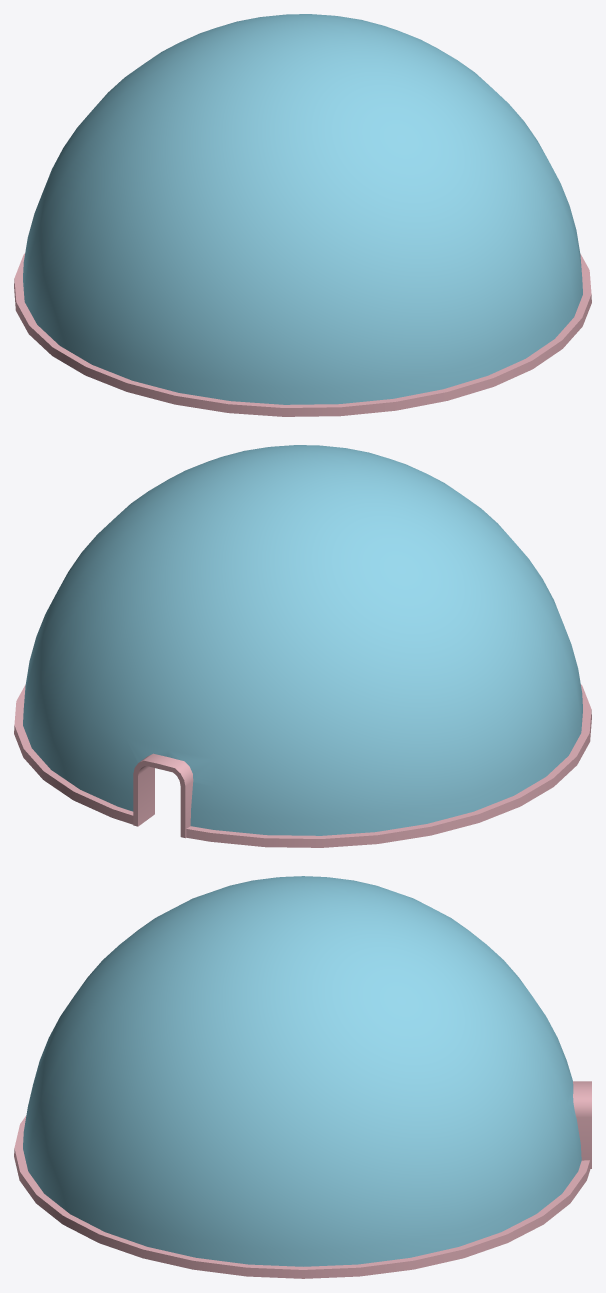
The model's file is GlassDome_01_10r.fbx.
The picture shows the model from 3 angles, top to bottom: view 1: azimuth 30°, elevation 25°; view 2: azimuth 150°, elevation 25°; view 3: azimuth 270°, elevation 25°; orthographic projection.
Visible parts, largest first — view 1: Cylinder.001; view 2: Cylinder.001; view 3: Cylinder.001.
Part boxes in pixels (x1,y1,x2,y2): Cylinder.001: [14, 14, 591, 416]; Cylinder.001: [14, 445, 591, 847]; Cylinder.001: [14, 876, 591, 1278].
Bounding box in the file's own units: 2060 × 1000 × 2058.
